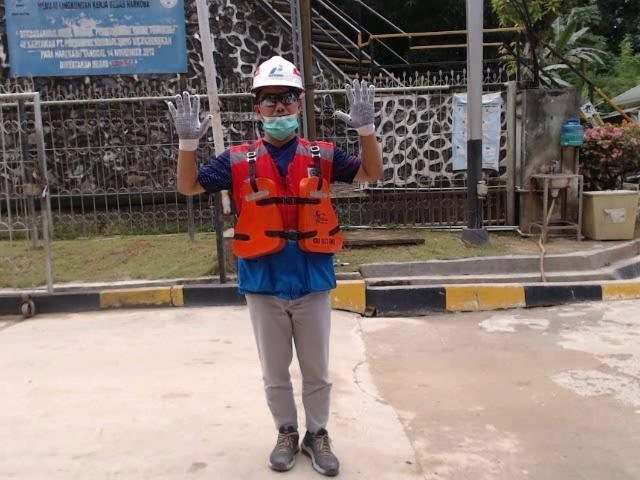vest: (232, 177, 343, 258)
